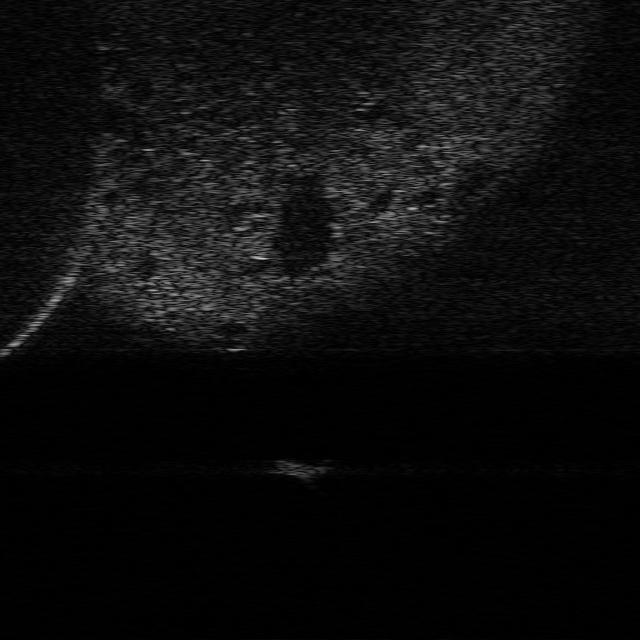cube: (274, 452, 334, 482)
